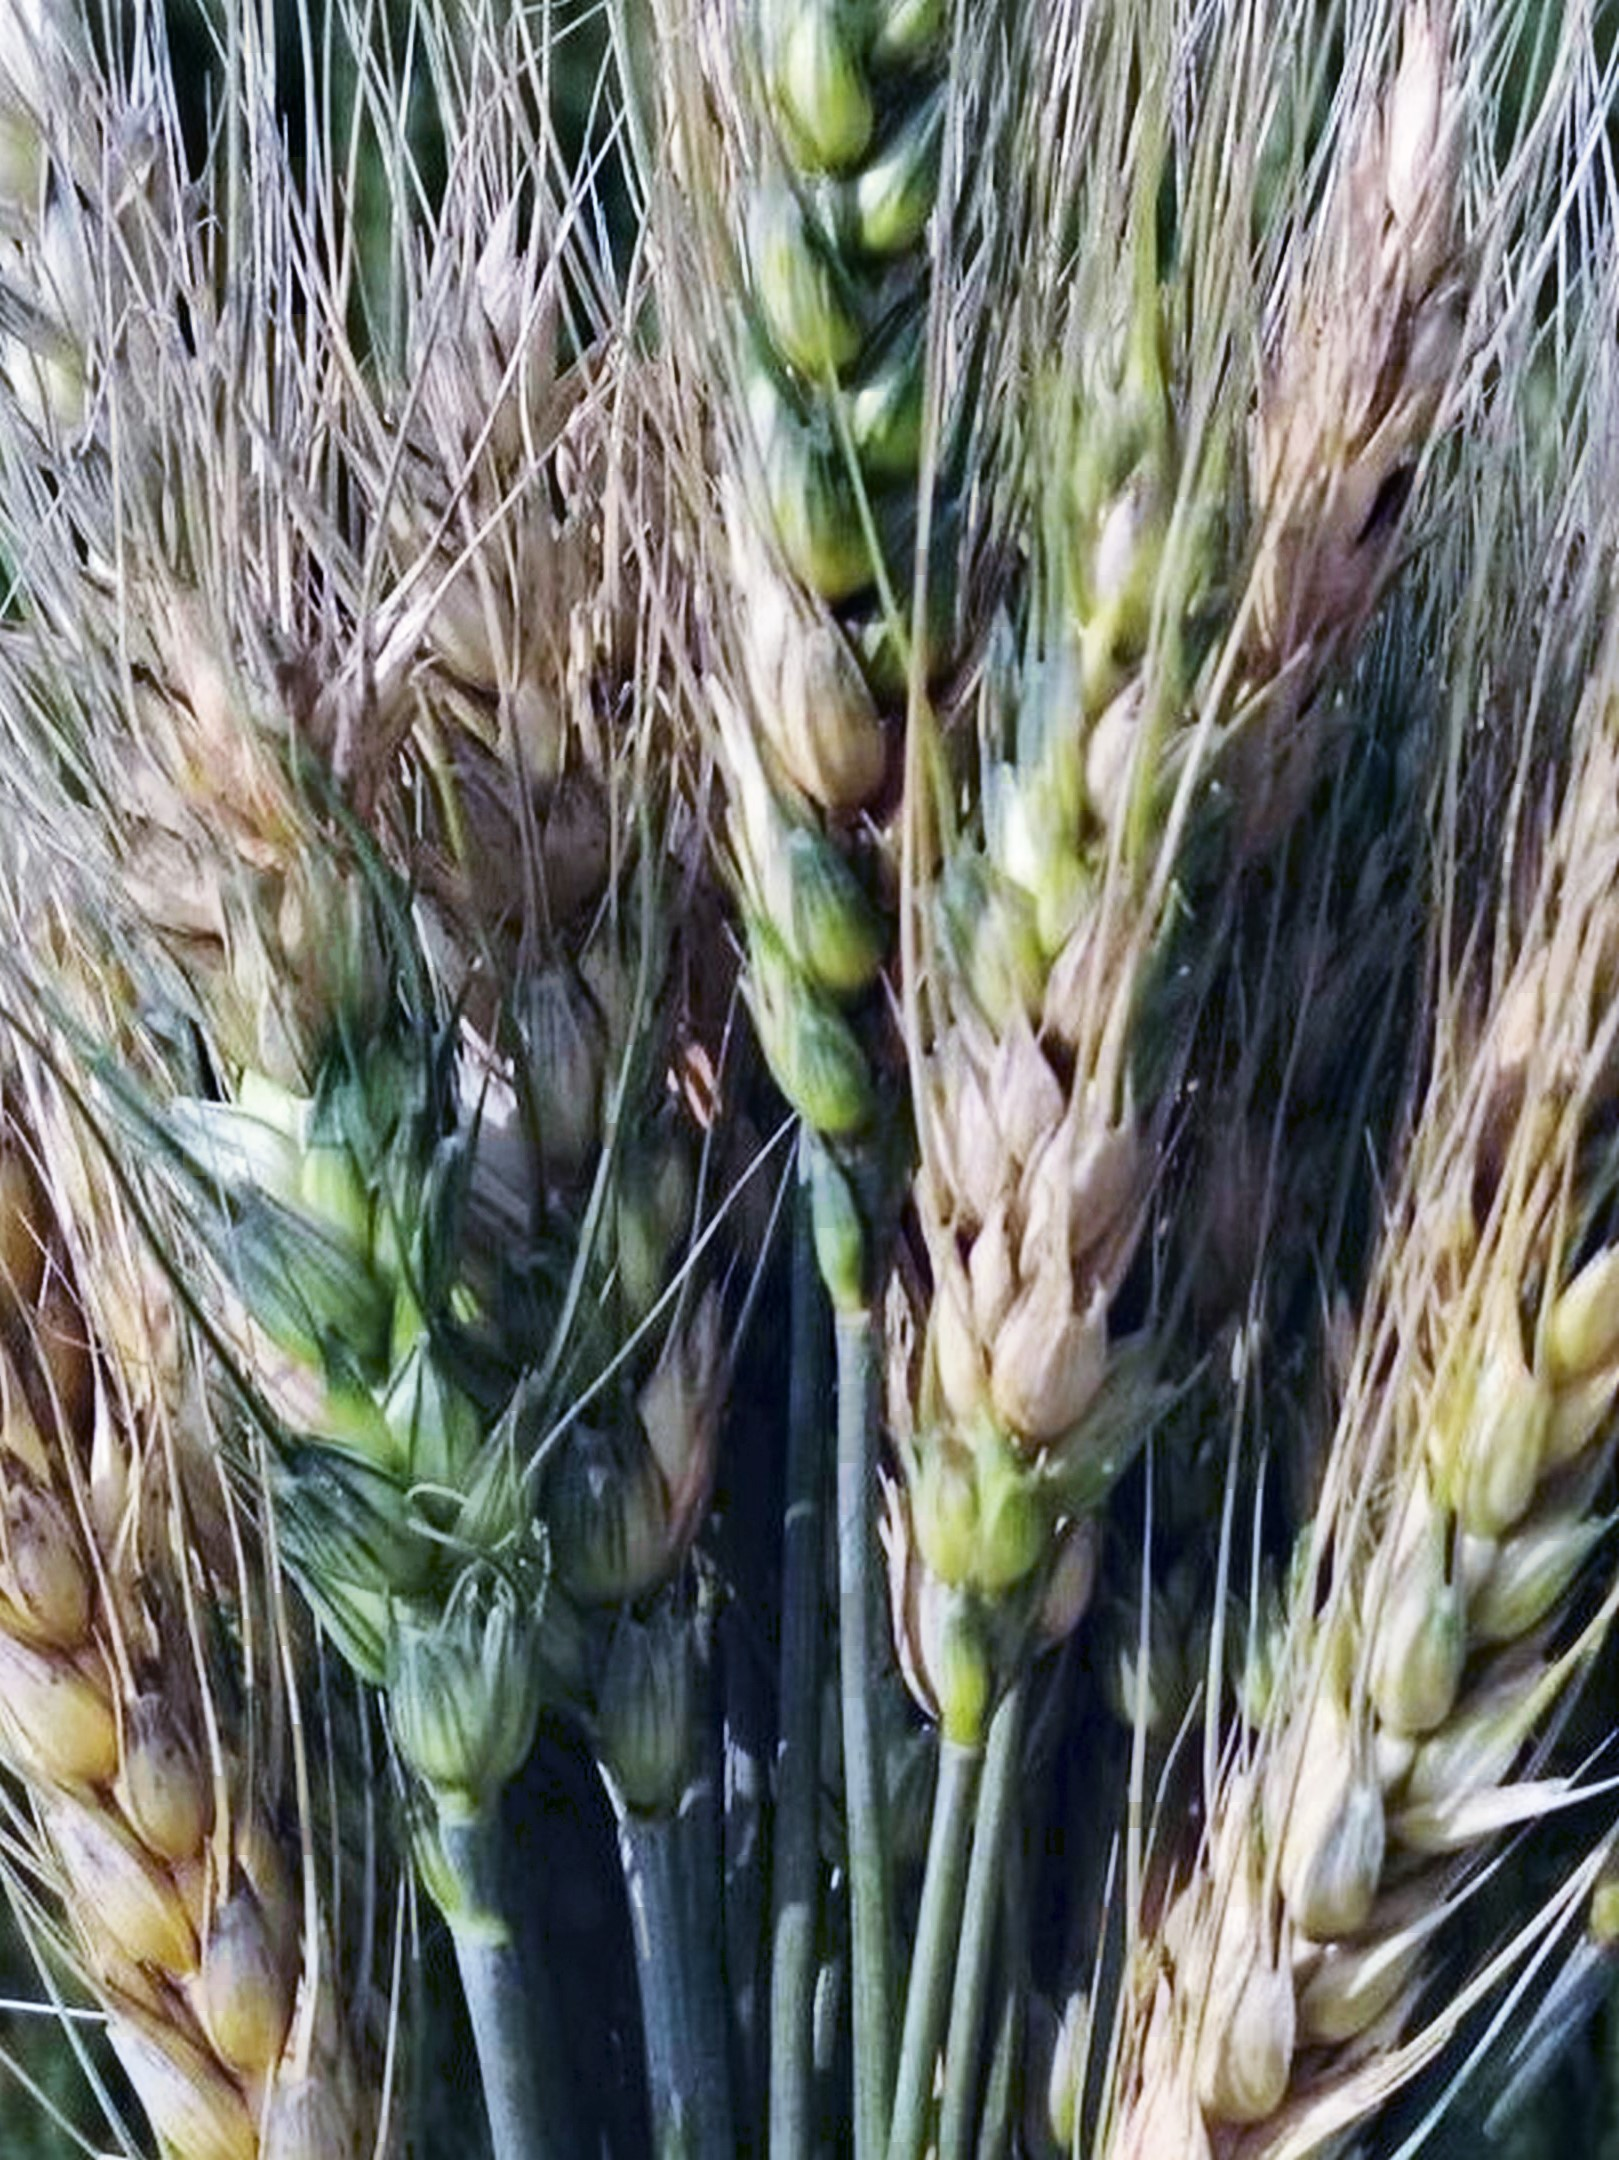Wheat scab: (879, 396, 1272, 1730)
